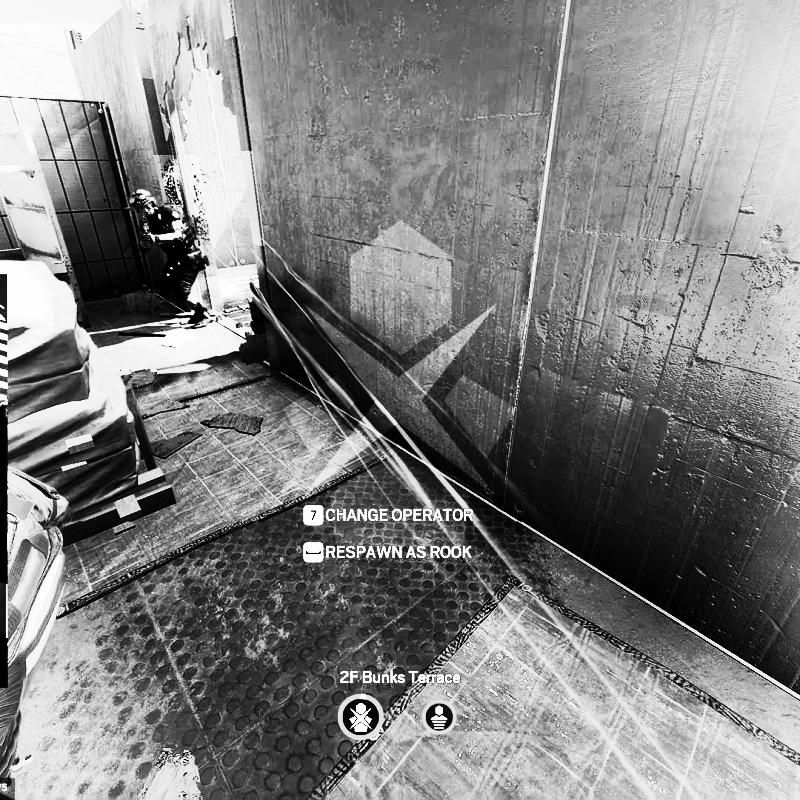Character: (126, 187, 215, 333)
Friend_label: (633, 773, 676, 800)
Head: (129, 190, 157, 219)
